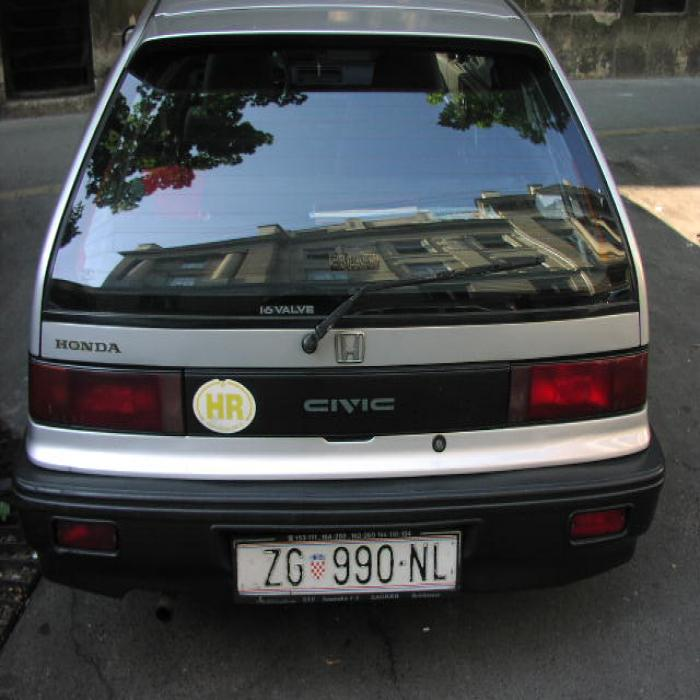number_plate: (235, 543, 453, 589)
